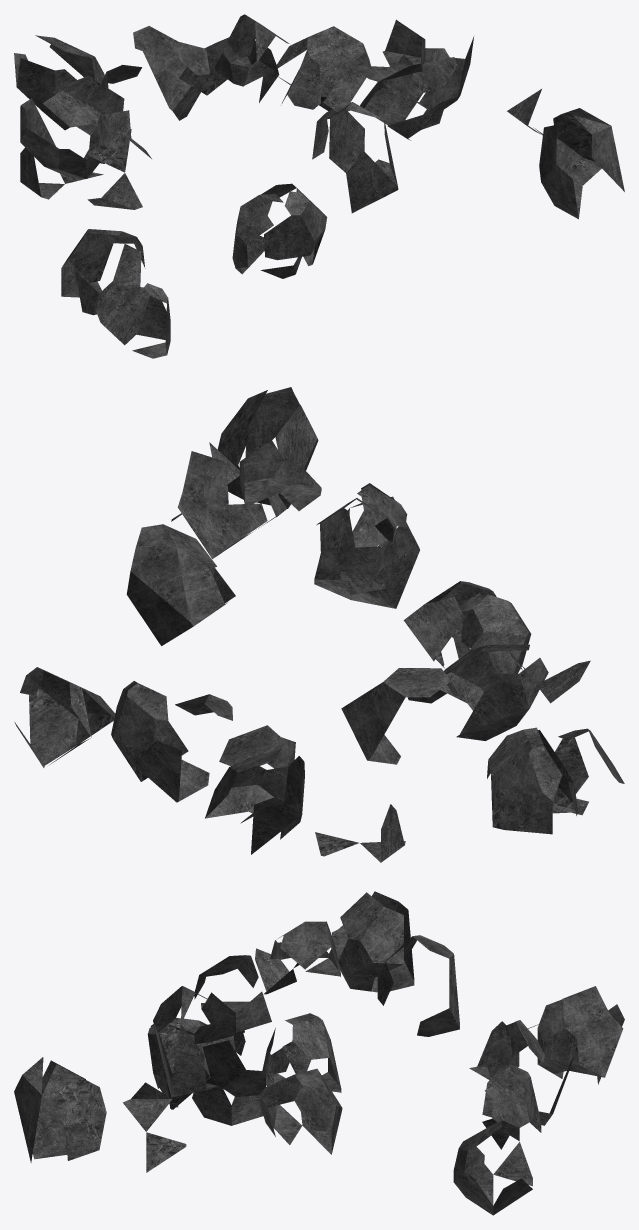
File: Stone17.obj
3 renders of one model, top to bottom at view 1: azimuth 30°, elevation 25°; view 2: azimuth 150°, elevation 25°; view 3: azimuth 270°, elevation 25°, orthographic. The views are drawn at different scales.
Parts seen in each view (by area): view 1: Object015; view 2: Object015; view 3: Object015.
Boxes of the visible parts, x1,y1,x2,y2 form: Object015: (14,14,624,358); Object015: (14,387,624,862); Object015: (14,891,624,1215).
Bounding box in the file's own units: 464 × 264 × 554.
Materials: 1 (1 with a texture image).
